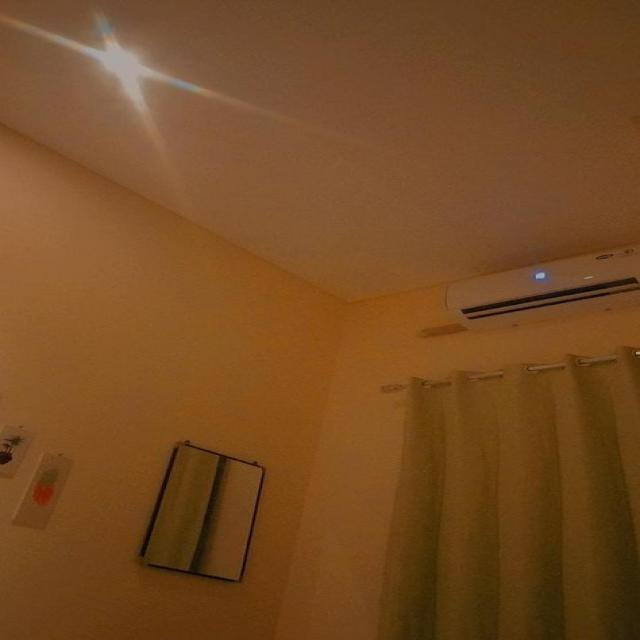AC: (443, 240, 639, 330)
